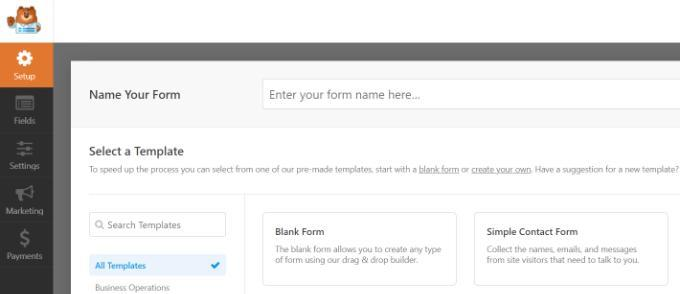button: (91, 256, 227, 277)
icon: (15, 48, 37, 69), (16, 229, 36, 251), (15, 187, 38, 206), (15, 95, 38, 113), (15, 141, 36, 160)
input: (263, 81, 680, 110), (90, 213, 227, 238)
label: (88, 88, 194, 104), (486, 226, 581, 239), (274, 226, 329, 239), (5, 251, 46, 264), (9, 161, 44, 173), (5, 208, 47, 218), (12, 115, 42, 128), (12, 71, 39, 84)
